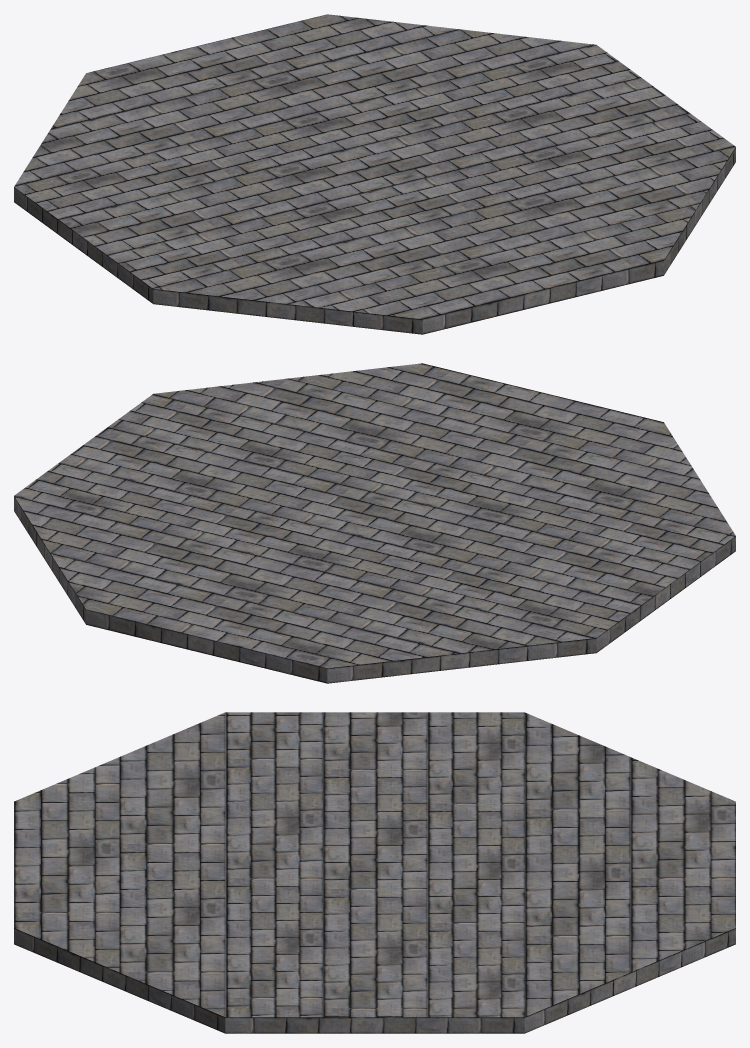
File: sanctum_floor_01.fbx
3 renders of one model, top to bottom at view 1: azimuth 30°, elevation 25°; view 2: azimuth 150°, elevation 25°; view 3: azimuth 270°, elevation 25°, orthographic. The views are drawn at different scales.
Visible parts, largest first — view 1: sanctum_floor_01; view 2: sanctum_floor_01; view 3: sanctum_floor_01.
Part boxes in pixels (box(x1,y1,x2,y2)): sanctum_floor_01: box(14, 14, 735, 334); sanctum_floor_01: box(14, 363, 735, 683); sanctum_floor_01: box(14, 712, 735, 1033).
Bounding box in the file's own units: 4000 × 100 × 4000.
